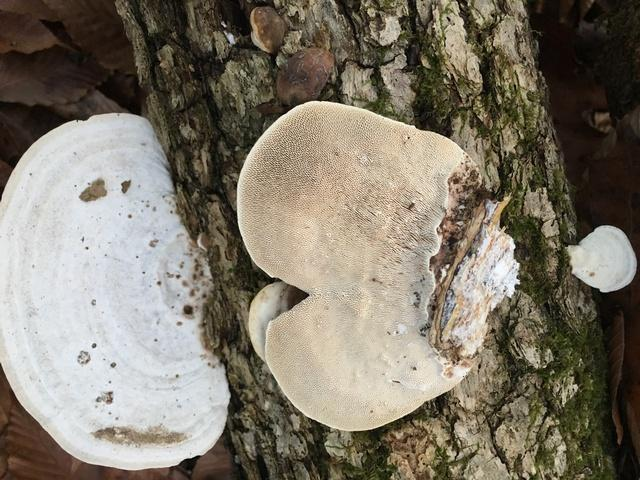poisonous_mushroom: (235, 98, 521, 432), (0, 110, 231, 471)
